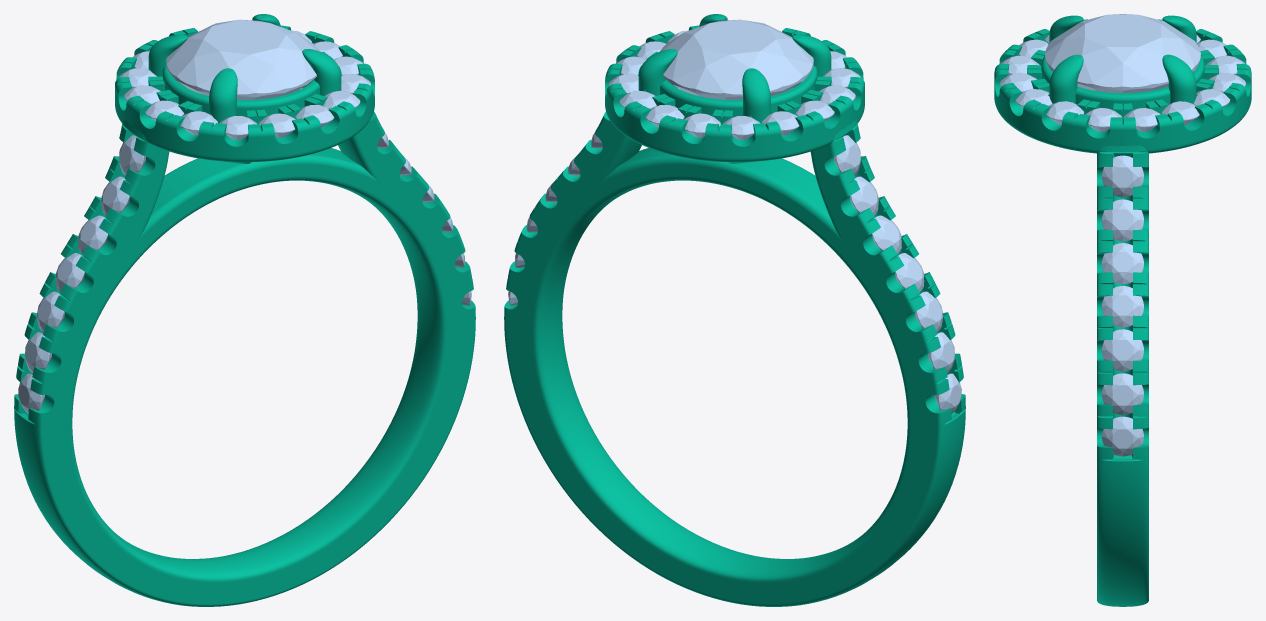
3 renders of one model, left to right at view 1: azimuth 30°, elevation 25°; view 2: azimuth 150°, elevation 25°; view 3: azimuth 270°, elevation 25°, orthographic.
Visible parts, largest first — view 1: JTC 10308(front).3dm, Diamond_Round (×8); view 2: JTC 10308(front).3dm, Diamond_Round (×8); view 3: JTC 10308(front).3dm, Diamond_Round (×20).
Boxes of the visible parts, box(x1,y1,x2,y2) form: JTC 10308(front).3dm: box(14, 14, 475, 606); Diamond_Round (×8): box(18, 19, 319, 414); JTC 10308(front).3dm: box(504, 14, 965, 606); Diamond_Round (×8): box(660, 19, 961, 414); JTC 10308(front).3dm: box(994, 15, 1251, 606); Diamond_Round (×20): box(1000, 14, 1245, 456).
Size of the model in its own units: 2.43 by 2.92 by 1.24.
